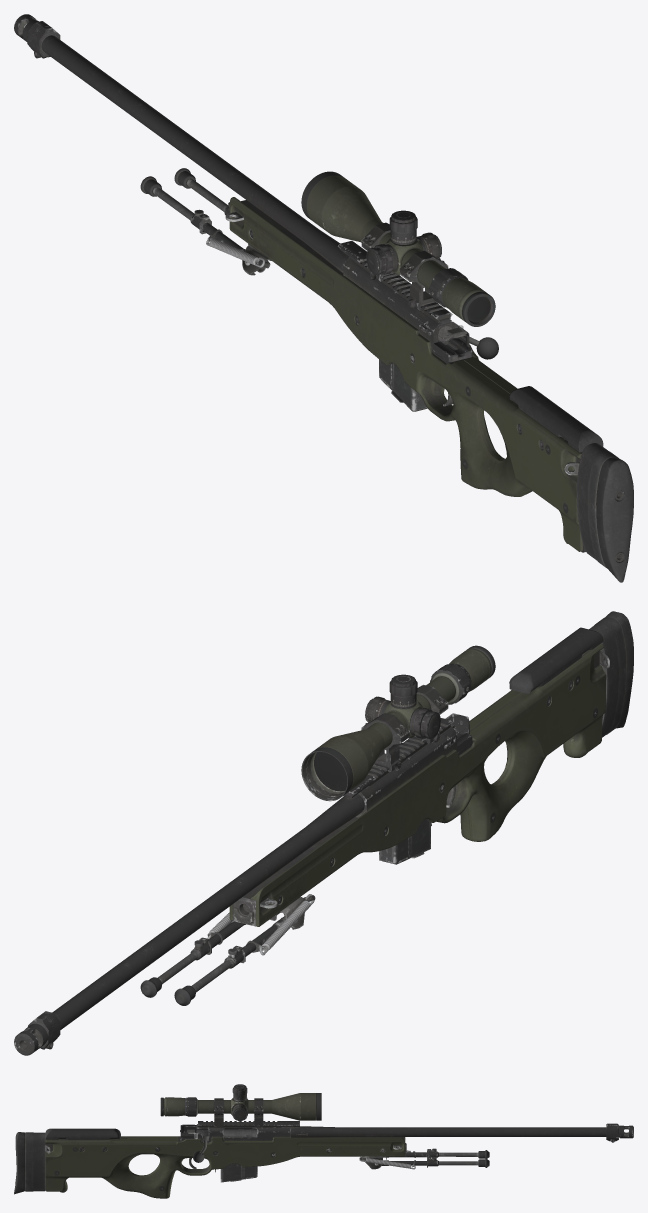
File: sniper.glb
The picture shows the model from 3 angles, top to bottom: view 1: azimuth 30°, elevation 25°; view 2: azimuth 150°, elevation 25°; view 3: azimuth 270°, elevation 25°; orthographic projection. The views are drawn at different scales.
Visible parts, largest first — view 1: body, bolt, magazine; view 2: body, magazine; view 3: body, bolt, magazine.
Boxes of the visible parts, x1,y1,x2,y2 form: body: [14, 14, 633, 582]; bolt: [433, 322, 498, 359]; magazine: [379, 359, 427, 411]; body: [14, 611, 633, 1055]; magazine: [379, 819, 430, 864]; body: [14, 1084, 633, 1198]; bolt: [180, 1124, 257, 1162]; magazine: [220, 1163, 257, 1182].
Bounding box in the file's own units: 0.1012 × 0.2387 × 1.22.
Materials: 1 (1 with a texture image).
